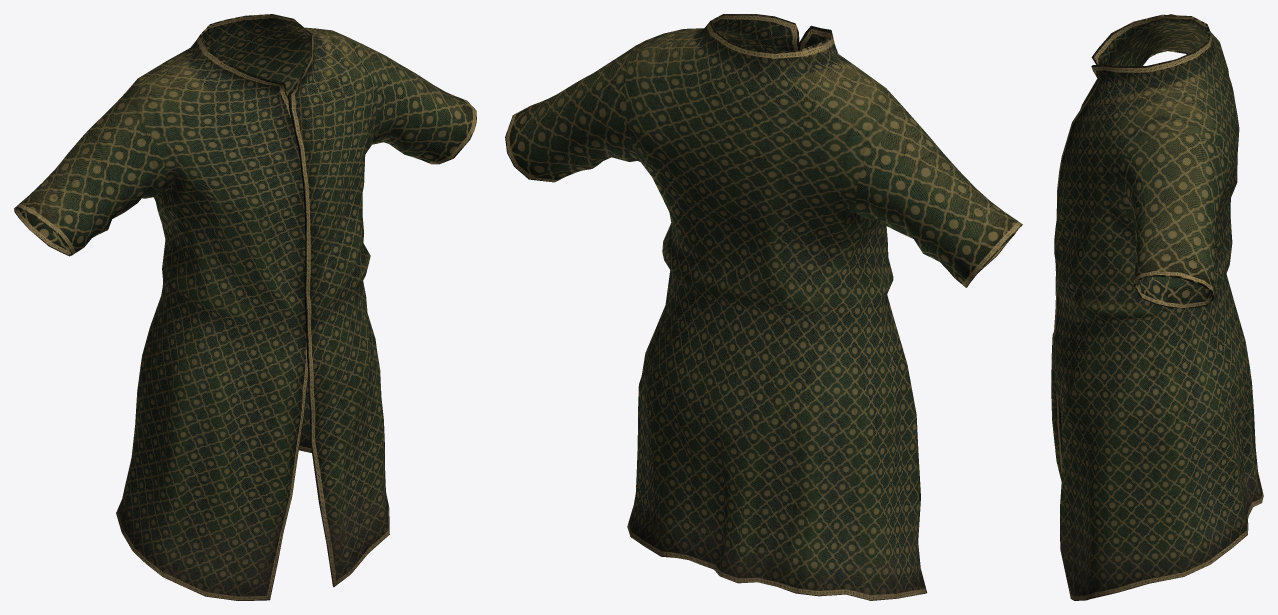
The model's file is clo_lossarnach_coat.fbx.
3 renders of one model, left to right at view 1: azimuth 30°, elevation 25°; view 2: azimuth 150°, elevation 25°; view 3: azimuth 270°, elevation 25°, orthographic. The views are drawn at different scales.
Parts seen in each view (by area): view 1: clo_lossarnach_coat; view 2: clo_lossarnach_coat; view 3: clo_lossarnach_coat.
Boxes of the visible parts, x1,y1,x2,y2 form: clo_lossarnach_coat: (14,14,476,600); clo_lossarnach_coat: (505,14,1022,600); clo_lossarnach_coat: (1051,14,1263,600).
Bounding box in the file's own units: 0.9113 × 0.3641 × 1.03.
Materials: 1 (1 with a texture image).
